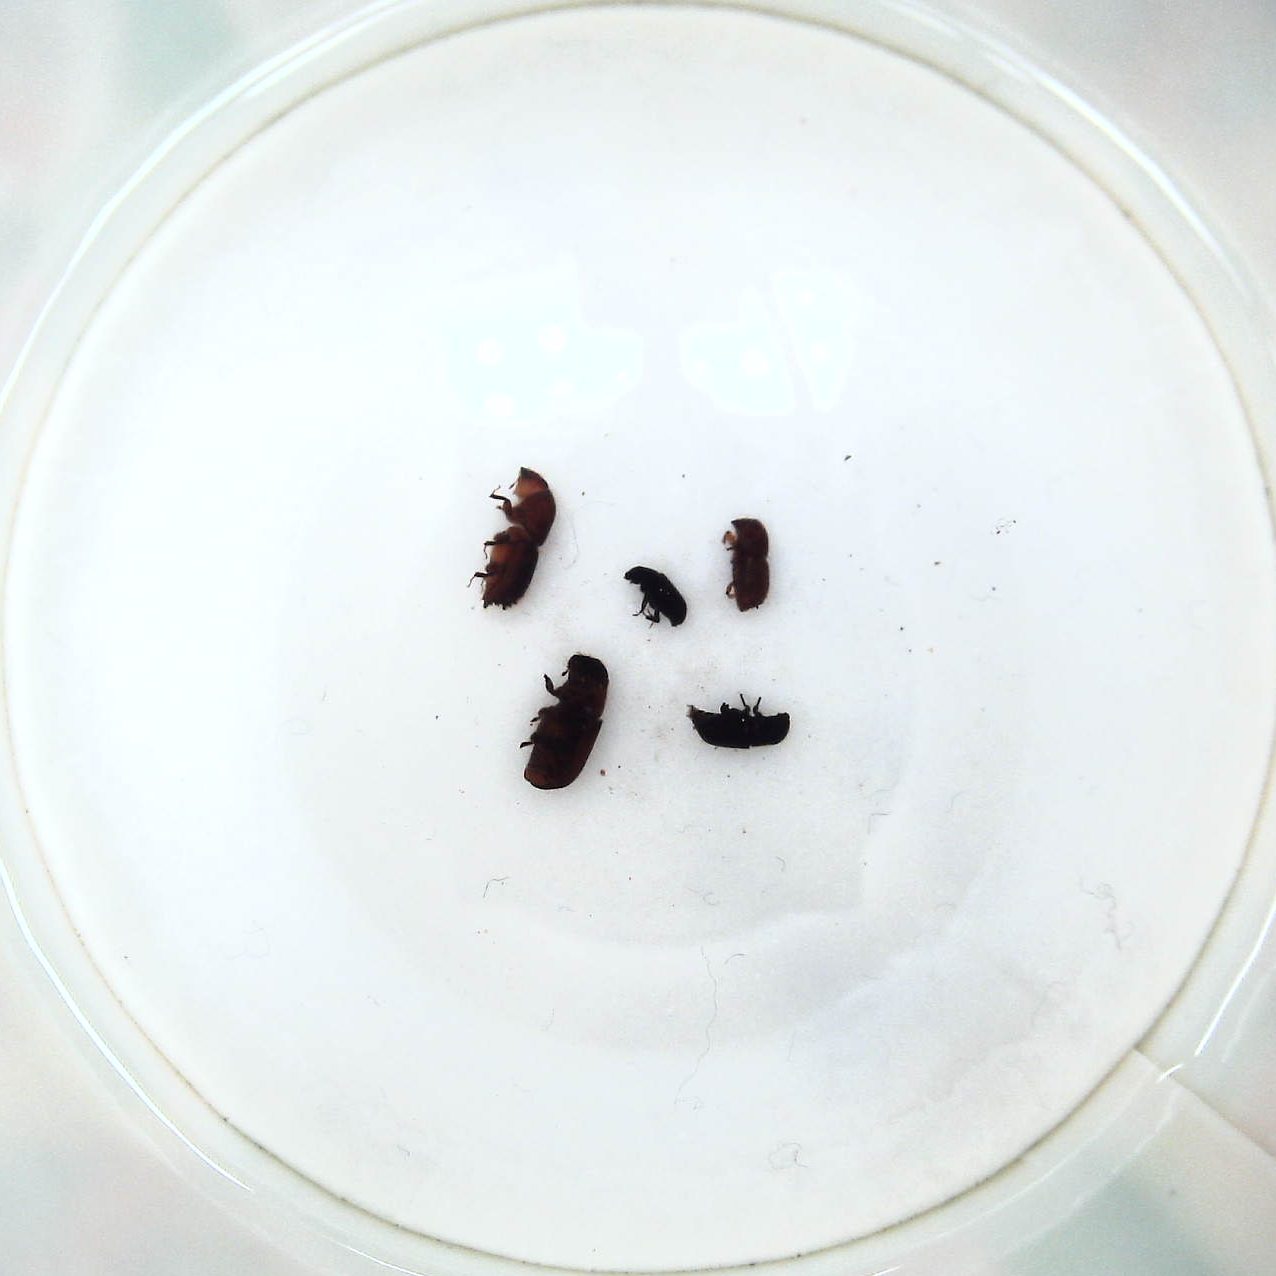Boerner: (471, 456, 561, 615)
Leconte: (515, 651, 612, 795)
armandi: (684, 691, 793, 761)
coleoptera: (618, 561, 698, 637)
linnaeus: (715, 515, 778, 617)
